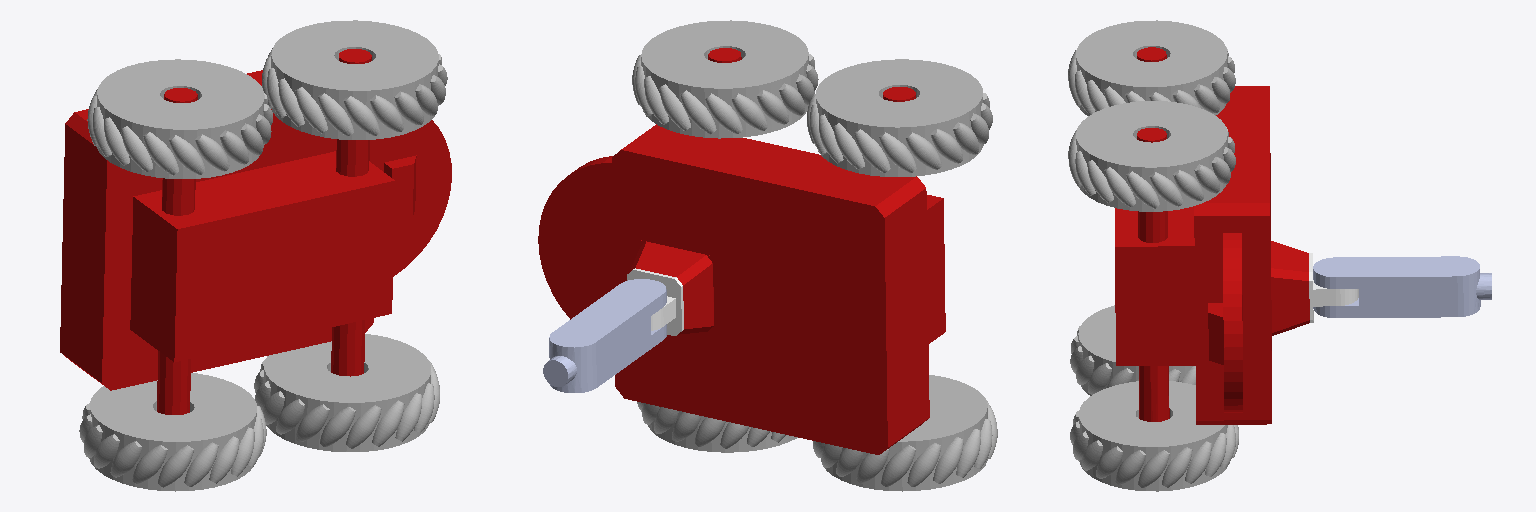
robot.urdf — robot_1:
<?xml version="1.0" encoding="utf-8"?>
<!-- This URDF was automatically created by SolidWorks to URDF Exporter! Originally created by [author] ([email redacted]) 
     Commit Version: 1.6.0-4-g7f85cfe  Build Version: 1.6.7995.38578
     For more information, please see http://wiki.ros.org/sw_urdf_exporter -->
<robot
  name="robot_1">

  <!-- World link definition -->
  <link name="world"/>

  <!-- Base_link link definition -->
  <link
    name="base_link">
    <inertial>
      <origin
        xyz="0.020465 -0.063416 -0.00090076"
        rpy="0 0 0" />
      <mass
        value="155.77" />
      <inertia
        ixx="5.1202"
        ixy="-0.007263"
        ixz="0.032109"
        iyy="10.869"
        iyz="0.034037"
        izz="6.7376" />
    </inertial>
    <visual>
      <origin
        xyz="0 0 0"
        rpy="0 0 0" />
      <geometry>
        <mesh
          filename="package://robot_1/meshes/base_link.STL" />
      </geometry>
      <material
        name="">
        <color
          rgba="0.79608 0.098039 0.098039 1" />
      </material>
    </visual>
    <collision>
      <origin
        xyz="0 0 0"
        rpy="0 0 0" />
      <geometry>
        <mesh
          filename="package://robot_1/meshes/base_link.STL" />
      </geometry>
    </collision>
  </link>

  <!-- Definition of joint between 'world' and 'base_link' for robot -->
  <joint
    name="base_joint"
    type="fixed">
    <parent link="world"/>
    <child link="base_link"/>
    <origin rpy="0 0 0" xyz="0.0 0.0 0.17"/>
  </joint>

  <!-- Wheel 1 link definition -->
  <link
    name="wheel1_link">
    <inertial>
      <origin
        xyz="-0.0001036 4.2643E-05 -0.0052124"
        rpy="0 0 0" />
      <mass
        value="18.438" />
      <inertia
        ixx="0.18676"
        ixy="-2.2799E-05"
        ixz="0.0027868"
        iyy="0.18671"
        iyz="-0.0011471"
        izz="0.32692" />
    </inertial>
    <visual>
      <origin
        xyz="0 0 0"
        rpy="0 0 0" />
      <geometry>
        <mesh
          filename="package://robot_1/meshes/wheel1_link.STL" />
      </geometry>
      <material
        name="">
        <color
          rgba="0.75294 0.75294 0.75294 1" />
      </material>
    </visual>
    <collision>
      <origin
        xyz="0 0 0"
        rpy="0 0 0" />
      <geometry>
        <mesh
          filename="package://robot_1/meshes/wheel1_link.STL" />
      </geometry>
    </collision>
  </link>

  <!-- Wheel 1 joint definition -->
  <joint
    name="joint_1"
    type="revolute">
    <origin
      xyz="0.24842 -0.2131 0.40842"
      rpy="0 0 0" />
    <parent
      link="base_link" />
    <child
      link="wheel1_link" />
    <axis
      xyz="-0.01987 0.0081792 -0.99977" />
    <limit
      effort="500"
      velocity="3.1416" />
  </joint>

  <!-- Set wheel 1 transmission -->
  <transmission name="wheel1_trans">
    <type>transmission_interface/SimpleTransmission</type>
    <joint name="joint_1">
      <hardwareInterface>hardware_interface/PositionJointInterface</hardwareInterface>
    </joint>
    <actuator name="wheel1_motor">
      <hardwareInterface>hardware_interface/PositionJointInterface</hardwareInterface>
      <mechanicalReduction>1</mechanicalReduction>
    </actuator>
  </transmission>

  <!-- Wheel 2 link definition -->
  <link
    name="wheel2_link">
    <inertial>
      <origin
        xyz="-0.0001036 4.2643E-05 -0.0052124"
        rpy="0 0 0" />
      <mass
        value="18.438" />
      <inertia
        ixx="0.18676"
        ixy="-2.2799E-05"
        ixz="0.0027868"
        iyy="0.18671"
        iyz="-0.0011471"
        izz="0.32692" />
    </inertial>
    <visual>
      <origin
        xyz="0 0 0"
        rpy="0 0 0" />
      <geometry>
        <mesh
          filename="package://robot_1/meshes/wheel2_link.STL" />
      </geometry>
      <material
        name="">
        <color
          rgba="0.75294 0.75294 0.75294 1" />
      </material>
    </visual>
    <collision>
      <origin
        xyz="0 0 0"
        rpy="0 0 0" />
      <geometry>
        <mesh
          filename="package://robot_1/meshes/wheel2_link.STL" />
      </geometry>
    </collision>
  </link>

  <!-- Wheel 2 joint definition -->
  <joint
    name="joint_2"
    type="revolute">
    <origin
      xyz="-0.23149 -0.21368 0.41795"
      rpy="0 0 0" />
    <parent
      link="base_link" />
    <child
      link="wheel2_link" />
    <axis
      xyz="-0.01987 0.0081792 -0.99977" />
    <limit
      effort="500"
      velocity="3.1416" />
  </joint>

  <!-- Set wheel 2 transmission -->
  <transmission name="wheel2_trans">
    <type>transmission_interface/SimpleTransmission</type>
    <joint name="joint_2">
      <hardwareInterface>hardware_interface/PositionJointInterface</hardwareInterface>
    </joint>
    <actuator name="wheel2_motor">
      <hardwareInterface>hardware_interface/PositionJointInterface</hardwareInterface>
      <mechanicalReduction>1</mechanicalReduction>
    </actuator>
  </transmission>

  <!-- Wheel 3 link definition -->
  <link
    name="wheel3_link">
    <inertial>
      <origin
        xyz="-0.00010357 -4.2604E-05 -0.0052126"
        rpy="0 0 0" />
      <mass
        value="18.438" />
      <inertia
        ixx="0.18681"
        ixy="2.277E-05"
        ixz="0.0027833"
        iyy="0.18677"
        iyz="0.0011457"
        izz="0.3268" />
    </inertial>
    <visual>
      <origin
        xyz="0 0 0"
        rpy="0 0 0" />
      <geometry>
        <mesh
          filename="package://robot_1/meshes/wheel3_link.STL" />
      </geometry>
      <material
        name="">
        <color
          rgba="0.75294 0.75294 0.75294 1" />
      </material>
    </visual>
    <collision>
      <origin
        xyz="0 0 0"
        rpy="0 0 0" />
      <geometry>
        <mesh
          filename="package://robot_1/meshes/wheel3_link.STL" />
      </geometry>
    </collision>
  </link>

  <!-- Wheel 3 joint definition -->
  <joint
    name="joint_3"
    type="revolute">
    <origin
      xyz="0.23193 -0.20631 -0.42139"
      rpy="3.1416 0 3.1416" />
    <parent
      link="base_link" />
    <child
      link="wheel3_link" />
    <axis
      xyz="-0.01987 -0.0081792 -0.99977" />
    <limit
      effort="500"
      velocity="3.1416" />
  </joint>

  <!-- Set wheel 3 transmission -->
  <transmission name="wheel3_trans">
    <type>transmission_interface/SimpleTransmission</type>
    <joint name="joint_3">
      <hardwareInterface>hardware_interface/PositionJointInterface</hardwareInterface>
    </joint>
    <actuator name="wheel3_motor">
      <hardwareInterface>hardware_interface/PositionJointInterface</hardwareInterface>
      <mechanicalReduction>1</mechanicalReduction>
    </actuator>
  </transmission>

  <!-- Wheel 4 link definition -->
  <link
    name="wheel4_link">
    <inertial>
      <origin
        xyz="-0.0001036 -4.2645E-05 -0.0052126"
        rpy="0 0 0" />
      <mass
        value="18.438" />
      <inertia
        ixx="0.18681"
        ixy="2.277E-05"
        ixz="0.0027833"
        iyy="0.18677"
        iyz="0.0011457"
        izz="0.3268" />
    </inertial>
    <visual>
      <origin
        xyz="0 0 0"
        rpy="0 0 0" />
      <geometry>
        <mesh
          filename="package://robot_1/meshes/wheel4_link.STL" />
      </geometry>
      <material
        name="">
        <color
          rgba="0.75294 0.75294 0.75294 1" />
      </material>
    </visual>
    <collision>
      <origin
        xyz="0 0 0"
        rpy="0 0 0" />
      <geometry>
        <mesh
          filename="package://robot_1/meshes/wheel4_link.STL" />
      </geometry>
    </collision>
  </link>

  <!-- Wheel 4 joint definition -->
  <joint
    name="joint_4"
    type="revolute">
    <origin
      xyz="-0.24798 -0.20689 -0.41186"
      rpy="3.1416 0 3.1416" />
    <parent
      link="base_link" />
    <child
      link="wheel4_link" />
    <axis
      xyz="-0.01987 -0.0081792 -0.99977" />
    <limit
      effort="500"
      velocity="3.1416" />
  </joint>

  <!-- Set wheel 4 transmission -->
  <transmission name="wheel4_trans">
    <type>transmission_interface/SimpleTransmission</type>
    <joint name="joint_4">
      <hardwareInterface>hardware_interface/PositionJointInterface</hardwareInterface>
    </joint>
    <actuator name="wheel4_motor">
      <hardwareInterface>hardware_interface/PositionJointInterface</hardwareInterface>
      <mechanicalReduction>1</mechanicalReduction>
    </actuator>
  </transmission>

  <!-- Base of articulated camera - link definition -->
  <link
    name="link_1">
    <inertial>
      <origin
        xyz="0 0 0"
        rpy="0 0 0" />
      <mass
        value="0" />
      <inertia
        ixx="0"
        ixy="0"
        ixz="0"
        iyy="0"
        iyz="0"
        izz="0" />
    </inertial>
    <visual>
      <origin
        xyz="0 0 0"
        rpy="0 0 0" />
      <geometry>
        <mesh
          filename="package://robot_1/meshes/link_1.STL" />
      </geometry>
      <material
        name="">
        <color
          rgba="1 1 1 1" />
      </material>
    </visual>
    <collision>
      <origin
        xyz="0 0 0"
        rpy="0 0 0" />
      <geometry>
        <mesh
          filename="package://robot_1/meshes/link_1.STL" />
      </geometry>
    </collision>
  </link>

  <!-- Joint for moving camera - joint definition -->
  <joint
    name="joint_5"
    type="revolute">
    <origin
      xyz="0.19968 0.27123 -0.0017495"
      rpy="0 0 0" />
    <parent
      link="base_link" />
    <child
      link="link_1" />
    <axis
      xyz="-0.01987 0.0081792 -0.99977" />
    <limit
      lower="-0.7854"
      upper="0.7854"
      effort="300"
      velocity="0.8" />
  </joint>

  <!-- Set wheel 2 transmission -->
  <transmission name="camera_trans">
    <type>transmission_interface/SimpleTransmission</type>
    <joint name="joint_5">
      <hardwareInterface>hardware_interface/PositionJointInterface</hardwareInterface>
    </joint>
    <actuator name="camera_motor">
      <hardwareInterface>hardware_interface/PositionJointInterface</hardwareInterface>
      <mechanicalReduction>1</mechanicalReduction>
    </actuator>
  </transmission>

  <!-- Robotic arm with camera - link definition -->
  <link
    name="link_2">
    <inertial>
      <origin
        xyz="0.00023684 -0.22638 -0.0018567"
        rpy="0 0 0" />
      <mass
        value="5.4483" />
      <inertia
        ixx="0.081256"
        ixy="7.0841E-05"
        ixz="-1.8425E-05"
        iyy="0.013173"
        iyz="-0.00055068"
        izz="0.080297" />
    </inertial>
    <visual>
      <origin
        xyz="0 0 0"
        rpy="0 0 0" />
      <geometry>
        <mesh
          filename="package://robot_1/meshes/link_2.STL" />
      </geometry>
      <material
        name="">
        <color
          rgba="0.79216 0.81961 0.93333 1" />
      </material>
    </visual>
    <collision>
      <origin
        xyz="0 0 0"
        rpy="0 0 0" />
      <geometry>
        <mesh
          filename="package://robot_1/meshes/link_2.STL" />
      </geometry>
    </collision>
  </link>

  <!-- Camera top position (joint fixed) -->
  <joint
    name="joint_6"
    type="fixed">
    <origin
      xyz="-0.0010356 0.40998 0.0036816"
      rpy="0 0 0" />
    <parent
      link="link_1" />
    <child
      link="link_2" />
    <axis
      xyz="0.01987 -0.0081792 0.99977" />
    <limit
      lower="0"
      upper="0"
      effort="0"
      velocity="0" />
  </joint>

  <!-- ros2_control block -->
  <ros2_control name="robot_1_controller" type="system">
    <hardware>
      <plugin>gazebo_ros2_control/GazeboSystem</plugin>
    </hardware>
    <joint name="joint_1">
      <command_interface name="velocity"/>
      <state_interface name="velocity"/>
    </joint>
    <joint name="joint_2">
      <command_interface name="velocity"/>
      <state_interface name="velocity"/>
    </joint>
    <joint name="joint_3">
      <command_interface name="velocity"/>
      <state_interface name="velocity"/>
    </joint>
    <joint name="joint_4">
      <command_interface name="velocity"/>
      <state_interface name="velocity"/>
    </joint>
    <joint name="joint_5">
      <command_interface name="position"/>
      <state_interface name="position"/>
    </joint>
  </ros2_control>

  <!-- Gazebo Plugins -->
  <gazebo>
    <plugin name="gazebo_ros2_control" filename="libgazebo_ros2_control.so"/>

    <plugin name="wheel1_controller" filename="libgazebo_ros_control.so">
      <ros>
        <namespace>/mobile_robot</namespace>
        <remapping>cmd_wheel1:=/cmd_wheel1</remapping>
      </ros>
      <joint>joint_1</joint>
      <type>effort_controllers/JointEffortController</type>
      <interface>effort</interface>
    </plugin>

    <plugin name="wheel2_controller" filename="libgazebo_ros_control.so">
      <ros>
        <namespace>/mobile_robot</namespace>
        <remapping>cmd_wheel2:=/cmd_wheel2</remapping>
      </ros>
      <joint>joint_2</joint>
      <type>effort_controllers/JointEffortController</type>
      <interface>effort</interface>
    </plugin>

    <plugin name="wheel3_controller" filename="libgazebo_ros_control.so">
      <ros>
        <namespace>/mobile_robot</namespace>
        <remapping>cmd_wheel3:=/cmd_wheel3</remapping>
      </ros>
      <joint>joint_3</joint>
      <type>effort_controllers/JointEffortController</type>
      <interface>effort</interface>
    </plugin>

    <plugin name="wheel4_controller" filename="libgazebo_ros_control.so">
      <ros>
        <namespace>/mobile_robot</namespace>
        <remapping>cmd_wheel4:=/cmd_wheel4</remapping>
      </ros>
      <joint>joint_4</joint>
      <type>effort_controllers/JointEffortController</type>
      <interface>effort</interface>
    </plugin>

    <!-- Camera controller -->
    <plugin name="camera_joint_controller" filename="libgazebo_ros_control.so">
      <ros>
        <namespace>/mobile_robot</namespace>
        <remapping>cmd_camera:=/cmd_camera</remapping>
      </ros>
      <joint>joint_5</joint>
      <type>position_controllers/JointPositionController</type>
      <interface>position</interface>
    </plugin>
  </gazebo>


  <gazebo reference="base_link">
    <selfCollide>true</selfCollide>
  </gazebo>

  <gazebo reference="wheel1_link">
    <selfCollide>true</selfCollide>
  </gazebo>

  <gazebo reference="wheel2_link">
    <selfCollide>true</selfCollide>
  </gazebo>

  <gazebo reference="wheel3_link">
    <selfCollide>true</selfCollide>
  </gazebo>

  <gazebo reference="wheel4_link">
    <selfCollide>true</selfCollide>
  </gazebo>

  <gazebo reference="link_1">
    <selfCollide>true</selfCollide>
  </gazebo>

  <gazebo reference="link_2">
    <selfCollide>true</selfCollide>
  </gazebo>

</robot>

--- Render facts (derived) ---
3 views of the same robot in one strip: view 1: azimuth 30°, elevation 25°; view 2: azimuth 150°, elevation 25°; view 3: azimuth 270°, elevation 25° (orthographic).
Robot: robot_1 — 8 links, 7 joints (5 revolute, 2 fixed); root link world; default pose: all joints at 0.
Visible links, largest first — view 1: base_link, wheel2_link, wheel1_link, wheel4_link, wheel3_link; view 2: base_link, wheel2_link, wheel1_link, wheel4_link, link_2, wheel3_link, link_1; view 3: base_link, wheel1_link, wheel3_link, wheel2_link, link_2, wheel4_link, link_1.
Boxes of the visible links, left/top/right/bottom form: base_link: left=60, top=49, right=451, bottom=414; wheel2_link: left=87, top=59, right=272, bottom=178; wheel1_link: left=262, top=20, right=447, bottom=139; wheel4_link: left=79, top=373, right=266, bottom=491; wheel3_link: left=254, top=334, right=439, bottom=451; base_link: left=538, top=48, right=945, bottom=454; wheel2_link: left=807, top=59, right=992, bottom=176; wheel1_link: left=632, top=20, right=818, bottom=138; wheel4_link: left=813, top=375, right=997, bottom=491; link_2: left=543, top=279, right=666, bottom=392; wheel3_link: left=637, top=402, right=797, bottom=452; link_1: left=627, top=268, right=683, bottom=335; base_link: left=1115, top=47, right=1309, bottom=424; wheel1_link: left=1068, top=101, right=1235, bottom=211; wheel3_link: left=1070, top=381, right=1238, bottom=491; wheel2_link: left=1068, top=20, right=1235, bottom=115; link_2: left=1313, top=256, right=1491, bottom=317; wheel4_link: left=1070, top=305, right=1195, bottom=395; link_1: left=1309, top=253, right=1358, bottom=322.
Bounding box of the posed robot: 1.1 × 1.12 × 0.9679 m (x, y, z).
7 mesh visuals loaded from 7 distinct referenced files (7 binary STL).